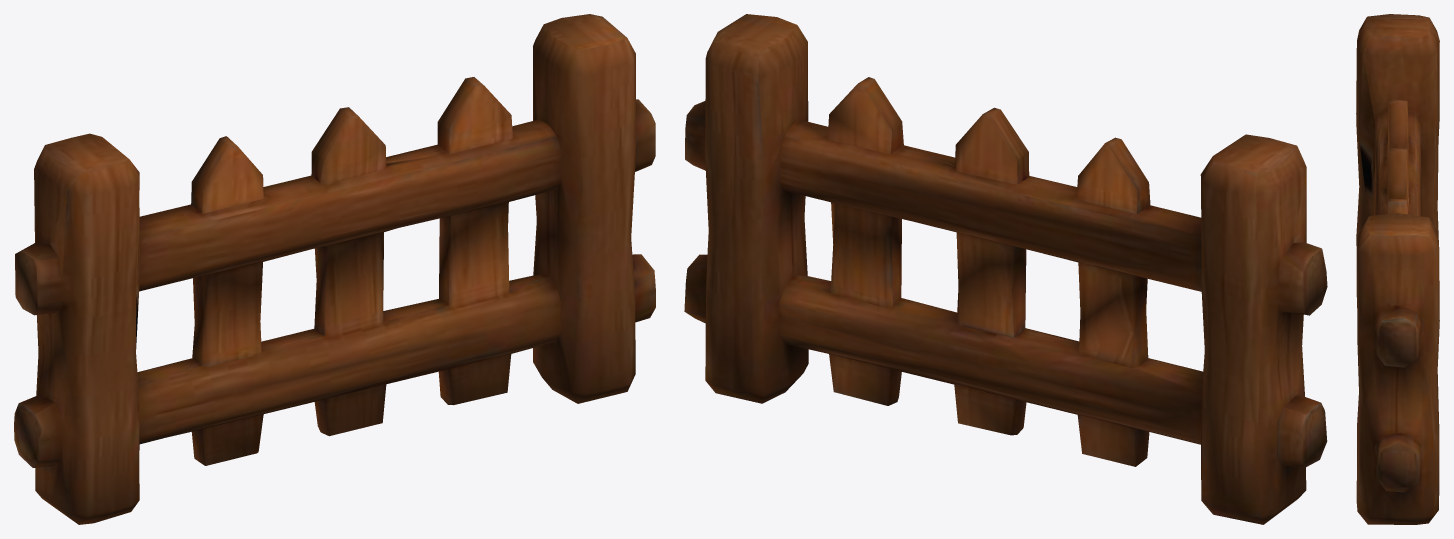
The model's file is lg-wooden-fence.glb.
The picture shows the model from 3 angles, left to right: view 1: azimuth 30°, elevation 25°; view 2: azimuth 150°, elevation 25°; view 3: azimuth 270°, elevation 25°; orthographic projection. The views are drawn at different scales.
Visible parts, largest first — view 1: geometry_0; view 2: geometry_0; view 3: geometry_0.
Boxes of the visible parts, <box> form: geometry_0: <box>14,14,655,524</box>; geometry_0: <box>684,14,1327,524</box>; geometry_0: <box>1356,14,1439,524</box>.
Bounding box in the file's own units: 1 × 0.5497 × 0.1429.
Materials: 1 (1 with a texture image).
